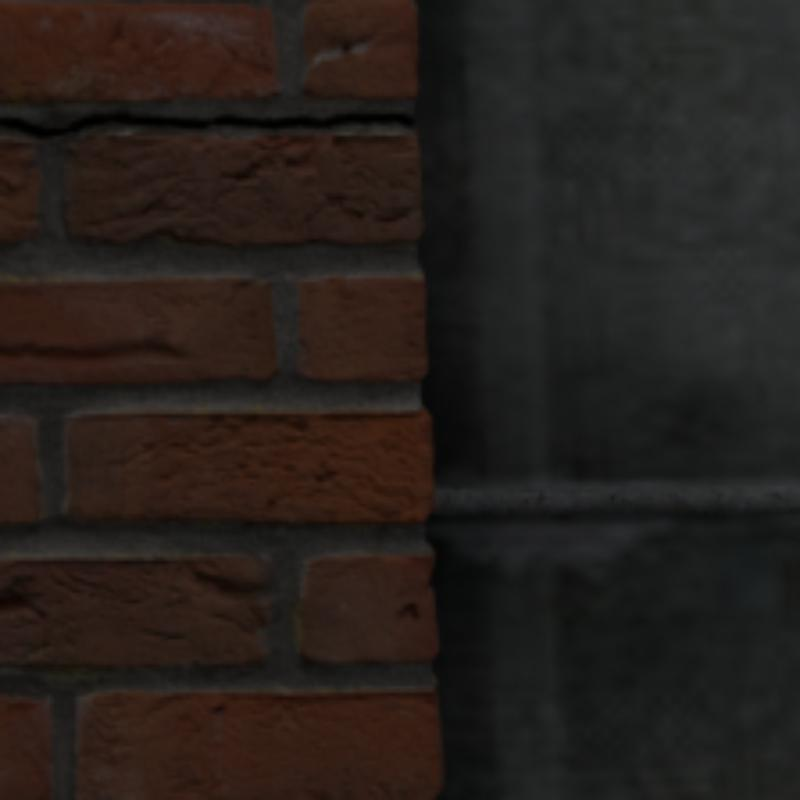crack: (69, 114, 407, 128), (0, 118, 66, 136)
